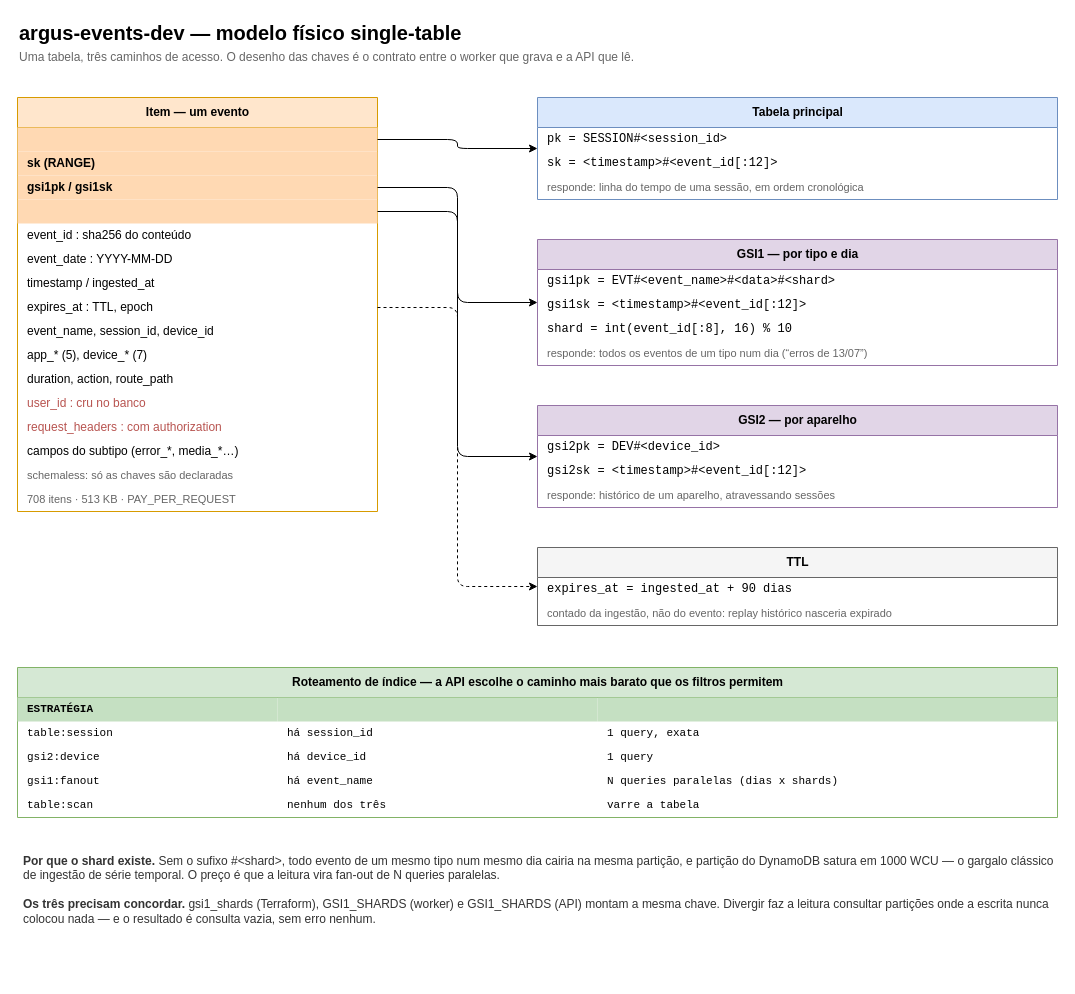
The diagram is 1075 pixels wide and 994 high, and some of its shapes have lost their labels. Each missing label, with the centre of its shape:
CUSTO: the point at 827,709
gsi2pk / gsi2sk: the point at 197,211
pk (HASH): the point at 197,139
QUANDO: the point at 437,709
